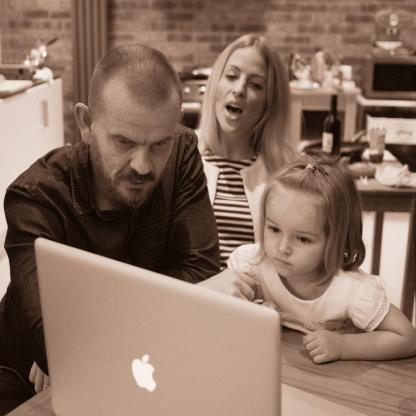board: (32, 237, 366, 416), (324, 93, 342, 160)
